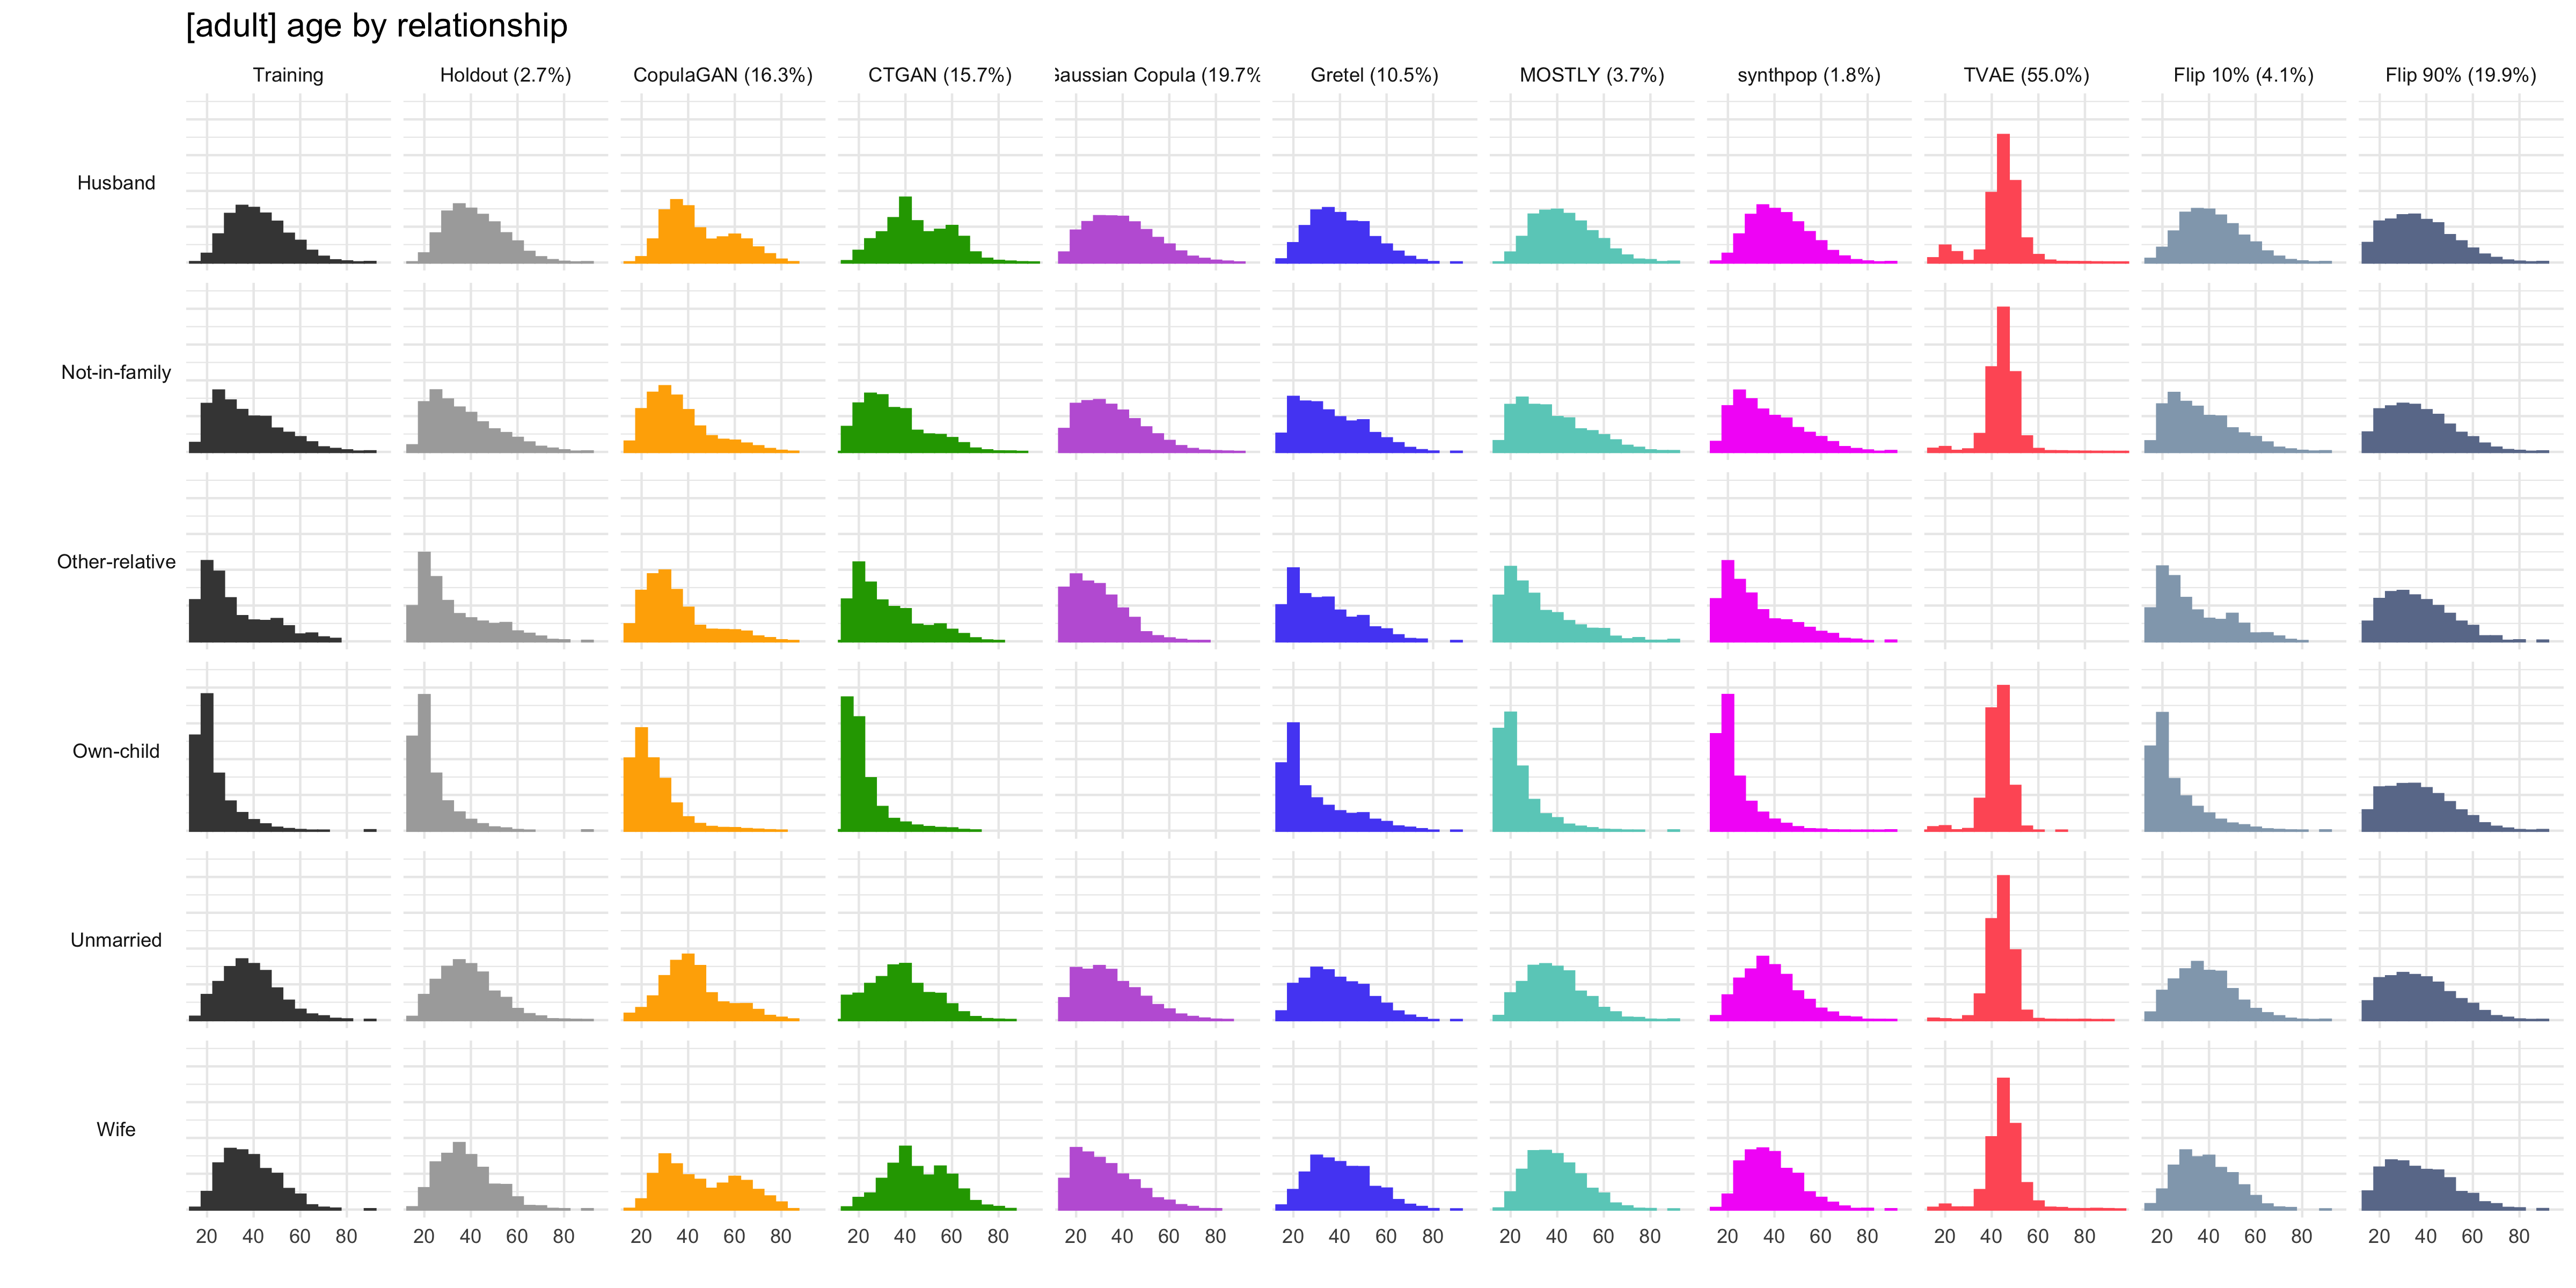

This screenshot's page, from the dashboard's own definition file:
{"tool":"tableau","page":{"name":"fidelity_all","canvas":[700,700],"ordinal":3},"visuals":[{"type":"worksheet","title":"Sheet 2 (3)","mark":"Automatic","rows":["dataset","synthesizer"],"cols":["Calculation_1058205215610793986","tvd"],"box":[8,8,684,684]}]}

Visuals, with their boxes on the page's 700x700 design canvas (x1, y1, x2, y2). These are canvas units, not pixel positions in the 2576x1288 screenshot, which may show the page scaled, cropped or inside an application window:
"Sheet 2 (3)" worksheet: crop(8, 8, 692, 692)
